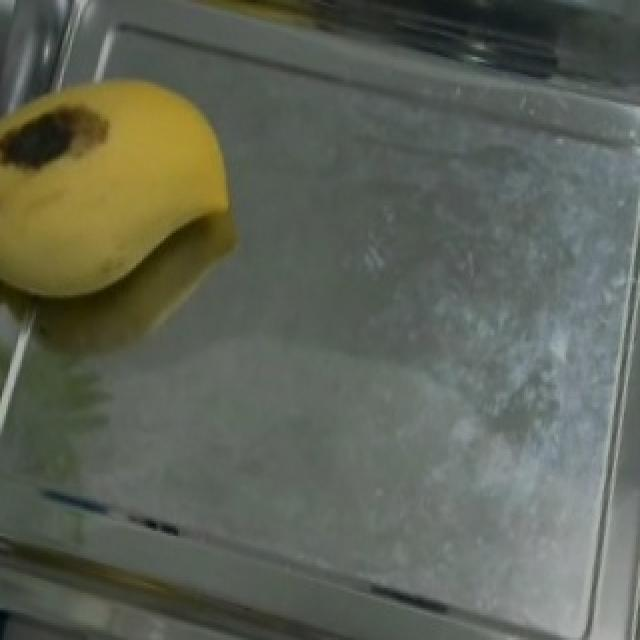fruit: (0, 44, 260, 344)
